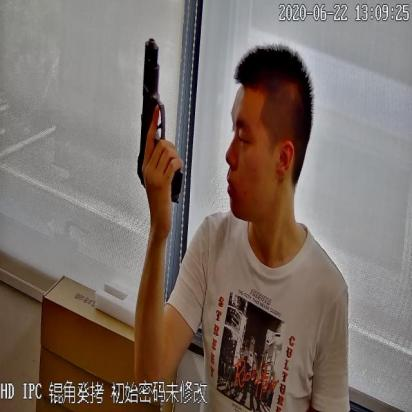Gun: (135, 35, 186, 210)
